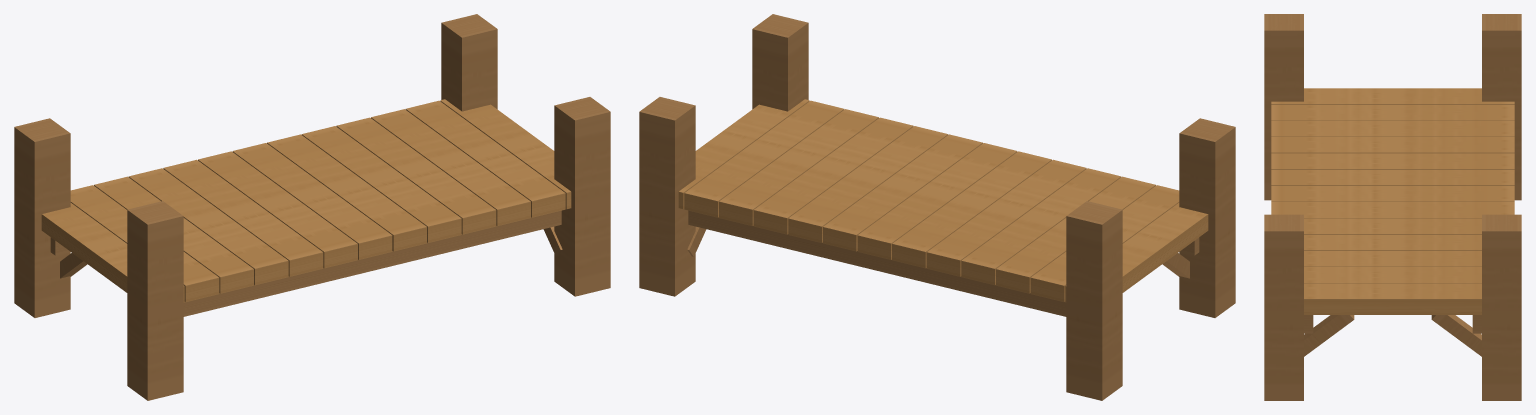
File: dock.glb
3 renders of one model, left to right at view 1: azimuth 30°, elevation 25°; view 2: azimuth 150°, elevation 25°; view 3: azimuth 270°, elevation 25°, orthographic. The views are drawn at different scales.
Visible parts, largest first — view 1: beach_dock; view 2: beach_dock; view 3: beach_dock.
Part boxes in pixels (left/top/right/bottom): beach_dock: left=14, top=14, right=610, bottom=400; beach_dock: left=639, top=14, right=1235, bottom=400; beach_dock: left=1264, top=14, right=1521, bottom=400.
Bounding box in the file's own units: 4.4 × 1.6 × 2.2.
1 material, 1 textured.
